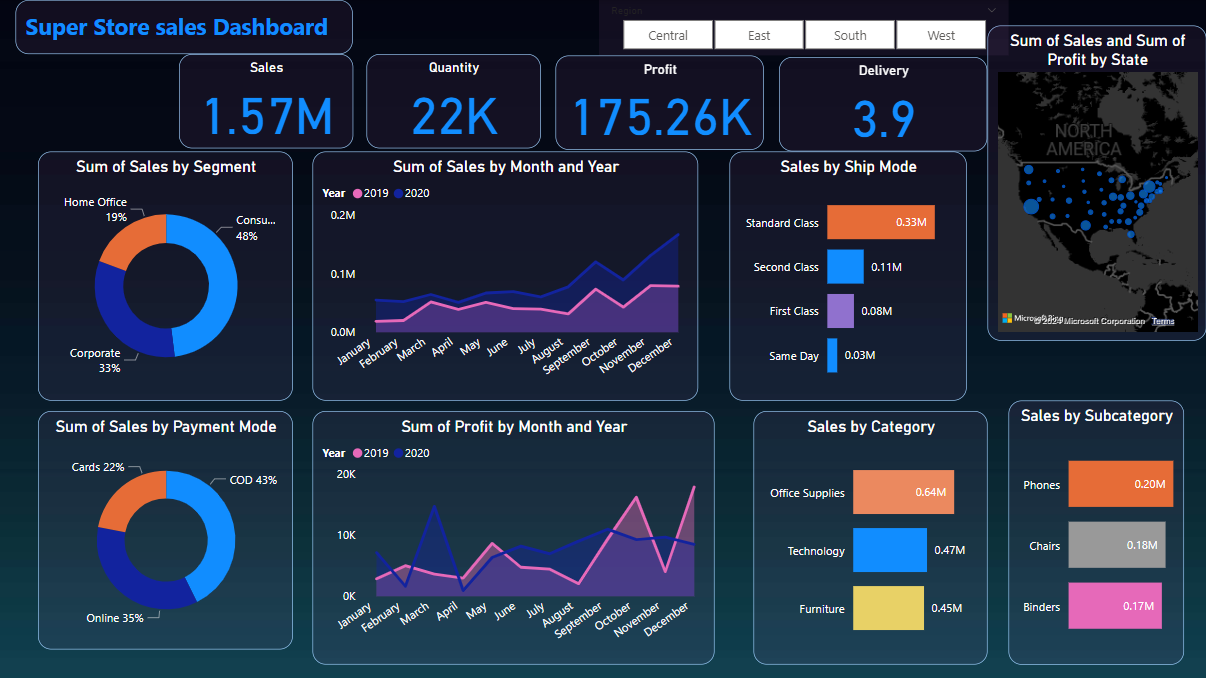

Layout of this report page (visuals, bound fields, positions):
{"tool":"powerbi","page":{"name":"Page 1","canvas":[1280,720],"ordinal":0},"visuals":[{"type":"barChart","title":"Sales by Category","fields":{"Category":["SuperStore_Sales_Dataset.Category"],"Y":["Sum(SuperStore_Sales_Dataset.Sales)"]},"box":[799.5,435.5,247.9,268.6],"z":0},{"type":"barChart","title":"Sales by Subcategory","fields":{"Y":["Sum(SuperStore_Sales_Dataset.Sales)"],"Category":["SuperStore_Sales_Dataset.Sub-Category"]},"box":[1069.7,424.4,186,279.7],"z":1000},{"type":"barChart","title":"Sales by Ship Mode","fields":{"Y":["Sum(SuperStore_Sales_Dataset.Sales)"],"Category":["SuperStore_Sales_Dataset.Ship Mode"]},"box":[774,160.5,251.1,263.8],"z":2000},{"type":"areaChart","fields":{"Series":["SuperStore_Sales_Dataset.Order Date.Variation.Date Hierarchy.Year"],"Category":["SuperStore_Sales_Dataset.Order Date.Variation.Date Hierarchy.Month","SuperStore_Sales_Dataset.Order Date.Variation.Date Hierarchy.Day"],"Y":["Sum(SuperStore_Sales_Dataset.Profit)"]},"box":[332.2,435.5,426,268.6],"z":3000},{"type":"areaChart","fields":{"Y":["Sum(SuperStore_Sales_Dataset.Sales)"],"Series":["SuperStore_Sales_Dataset.Order Date.Variation.Date Hierarchy.Year"],"Category":["SuperStore_Sales_Dataset.Order Date.Variation.Date Hierarchy.Month","SuperStore_Sales_Dataset.Order Date.Variation.Date Hierarchy.Day"]},"box":[332.2,160.5,408.5,263.8],"z":4000},{"type":"map","fields":{"Category":["SuperStore_Sales_Dataset.State"],"Size":["Sum(SuperStore_Sales_Dataset.Sales)"]},"box":[1047.4,27,232.1,333.8],"z":5000},{"type":"donutChart","fields":{"Category":["SuperStore_Sales_Dataset.Segment"],"Y":["Sum(SuperStore_Sales_Dataset.Sales)"]},"box":[41.3,160.5,270.2,263.8],"z":6000},{"type":"donutChart","fields":{"Y":["Sum(SuperStore_Sales_Dataset.Sales)"],"Category":["SuperStore_Sales_Dataset.Payment Mode"]},"box":[41.3,435.5,270.2,252.7],"z":7000},{"type":"slicer","fields":{"Values":["SuperStore_Sales_Dataset.Region"]},"box":[635.8,0,433.9,58.8],"z":8000},{"type":"textbox","box":[17.5,0,357.6,57.2],"z":9000},{"type":"card","title":"Sales","fields":{"Values":["Sum(SuperStore_Sales_Dataset.Sales)"]},"box":[190.7,57.2,184.4,100.1],"z":10000},{"type":"card","title":"Quantity","fields":{"Values":["Sum(SuperStore_Sales_Dataset.Quantity)"]},"box":[389.4,57.2,184.4,100.1],"z":11000},{"type":"card","title":"Profit","fields":{"Values":["Sum(SuperStore_Sales_Dataset.Profit)"]},"box":[589.7,58.8,220.9,100.1],"z":12000},{"type":"card","title":"Delivery ","fields":{"Values":["Avg(SuperStore_Sales_Dataset.AvgDelevery)"]},"box":[826.5,60.4,220.9,100.1],"z":13000}]}

Visuals, with their boxes in screenshot pixels (x1, y1, x2, y2), scaled from the page's 1280x720 canvas onto the 1206x678 screenshot:
"Sales by Category" barChart: (753,410,987,663)
"Sales by Subcategory" barChart: (1008,400,1183,663)
"Sales by Ship Mode" barChart: (729,151,966,400)
areaChart - SuperStore_Sales_Dataset.Order Date.Variation.Date Hierarchy.Year x SuperStore_Sales_Dataset.Order Date.Variation.Date Hierarchy.Month: (313,410,714,663)
areaChart - Sum(SuperStore_Sales_Dataset.Sales) x SuperStore_Sales_Dataset.Order Date.Variation.Date Hierarchy.Year: (313,151,698,400)
map - SuperStore_Sales_Dataset.State x Sum(SuperStore_Sales_Dataset.Sales): (987,25,1205,340)
donutChart - SuperStore_Sales_Dataset.Segment x Sum(SuperStore_Sales_Dataset.Sales): (39,151,293,400)
donutChart - Sum(SuperStore_Sales_Dataset.Sales) x SuperStore_Sales_Dataset.Payment Mode: (39,410,293,648)
slicer - SuperStore_Sales_Dataset.Region: (599,0,1008,55)
textbox: (16,0,353,54)
"Sales" card: (180,54,353,148)
"Quantity" card: (367,54,541,148)
"Profit" card: (556,55,764,150)
"Delivery " card: (779,57,987,151)
